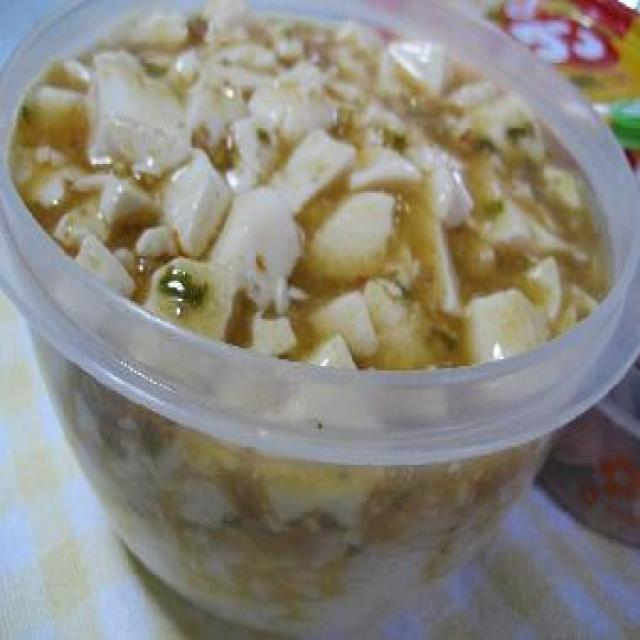豆腐料理: (0, 15, 623, 640)
